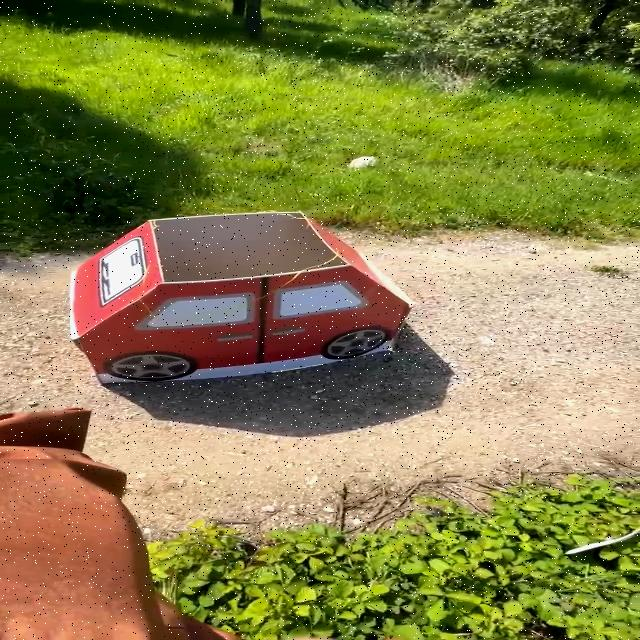red_car: (56, 194, 436, 398)
